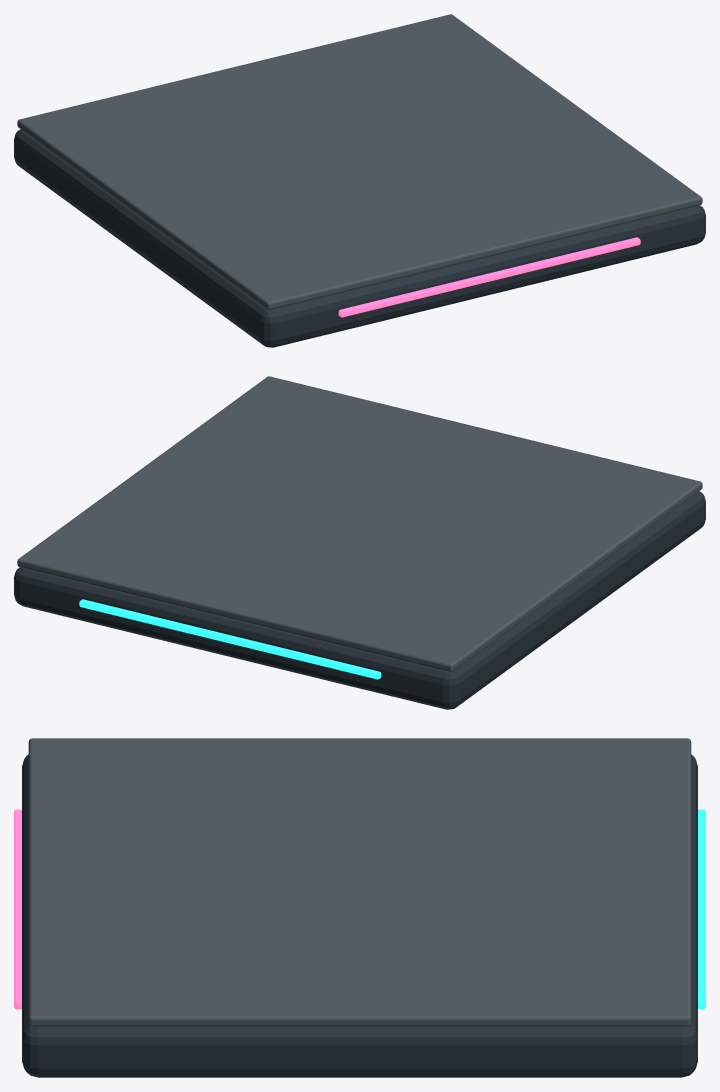
Rendered from rooftop-platform.glb.
The picture shows the model from 3 angles, top to bottom: view 1: azimuth 30°, elevation 25°; view 2: azimuth 150°, elevation 25°; view 3: azimuth 270°, elevation 25°; orthographic projection. The views are drawn at different scales.
Parts seen in each view (by area): view 1: rooftop_platform_surface_01, rooftop_platform_surface_00, rooftop_platform_surface_03; view 2: rooftop_platform_surface_01, rooftop_platform_surface_00, rooftop_platform_surface_04; view 3: rooftop_platform_surface_01, rooftop_platform_surface_00, rooftop_platform_surface_03, rooftop_platform_surface_04.
Part boxes in pixels (left/top/right/bottom): rooftop_platform_surface_01: left=17, top=14, right=702, bottom=309; rooftop_platform_surface_00: left=14, top=129, right=705, bottom=347; rooftop_platform_surface_03: left=338, top=237, right=640, bottom=317; rooftop_platform_surface_01: left=17, top=376, right=702, bottom=671; rooftop_platform_surface_00: left=14, top=491, right=705, bottom=709; rooftop_platform_surface_04: left=79, top=599, right=381, bottom=679; rooftop_platform_surface_01: left=28, top=738, right=691, bottom=1026; rooftop_platform_surface_00: left=22, top=754, right=697, bottom=1077; rooftop_platform_surface_03: left=14, top=809, right=21, bottom=1009; rooftop_platform_surface_04: left=698, top=809, right=705, bottom=1009.
Bounding box in the file's own units: 4 × 0.5599 × 4.1.
